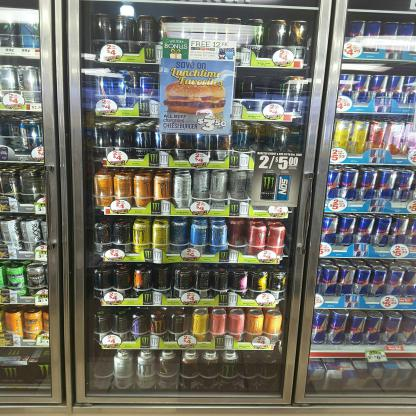Void: (95, 353, 114, 390)
